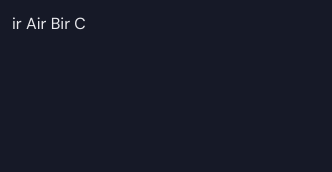
it: PageTransition › mostra a tela quando a pessoa clica em dois itens do menu seguidos
What coordinates should you click on to do the following:
click the link "ir B"
I would click on:
 (48, 24)
Its box is [37,13,60,34].
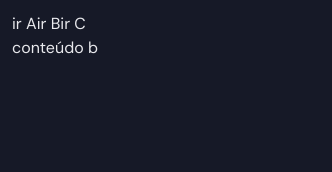
What coordinates should you click on to do the following:
click the link "ir C"
I would click on:
 (73, 24)
Its box is [60,13,86,34].
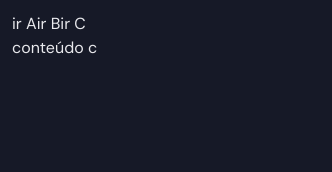
Result: the text with test id "page-b" is gone
